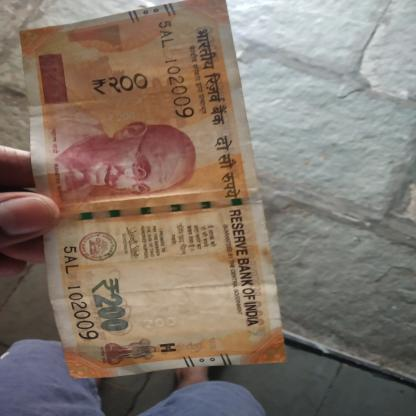New200Front: (18, 0, 287, 379)
